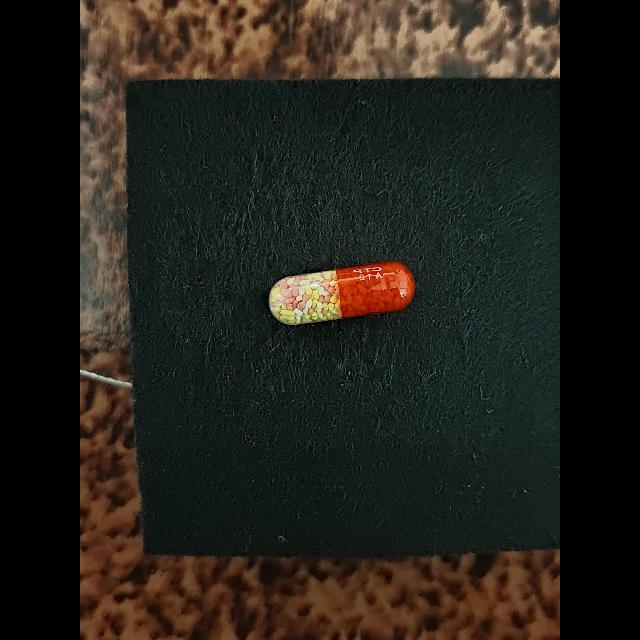Intact Capsule: (269, 262, 415, 325)
